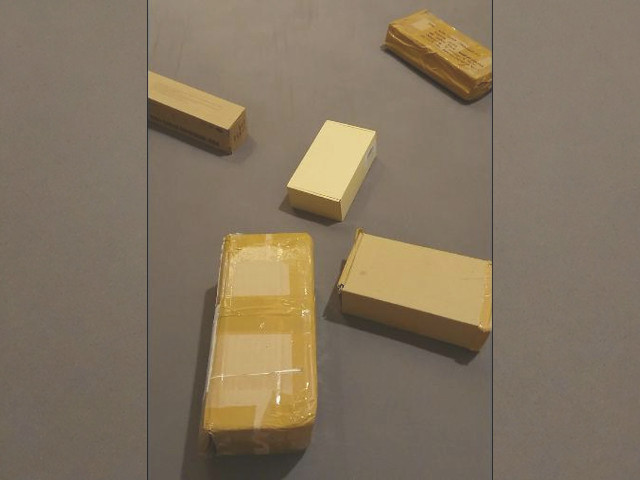cardboard: (200, 232, 316, 456), (338, 229, 492, 351), (388, 9, 491, 100), (289, 118, 378, 219), (147, 67, 245, 152)
